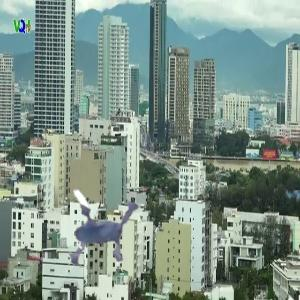drone: (25, 145, 165, 285)
